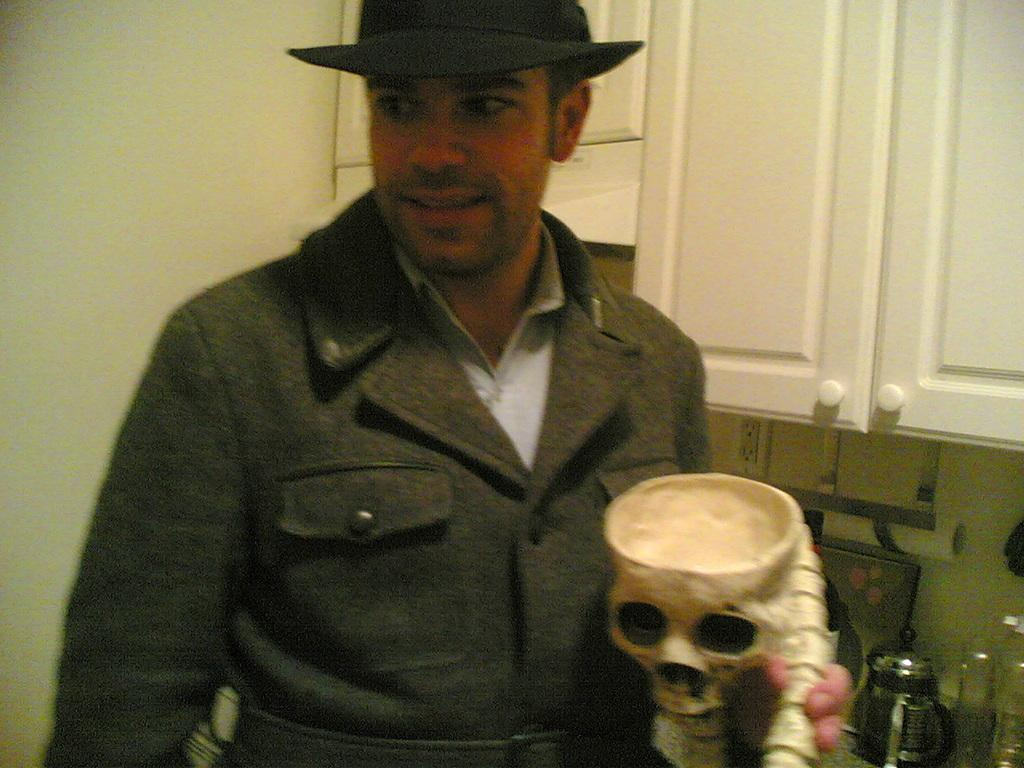Hat: (282, 0, 643, 79)
